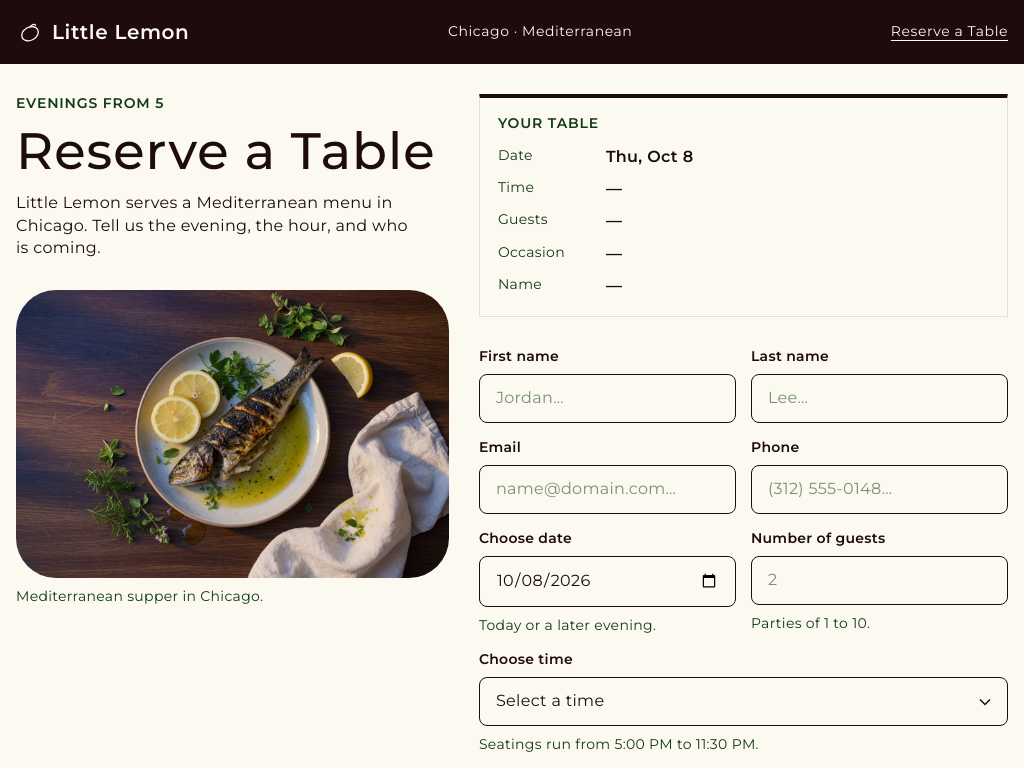
Scenario: BookingPage › should show the guest count on the slip when the guest field changes
The width and height of the screenshot is (1024, 768).
Type "6" into the number field labelled "Number of guests" at (879, 580), box x1=751 y1=556 x2=1008 y2=604
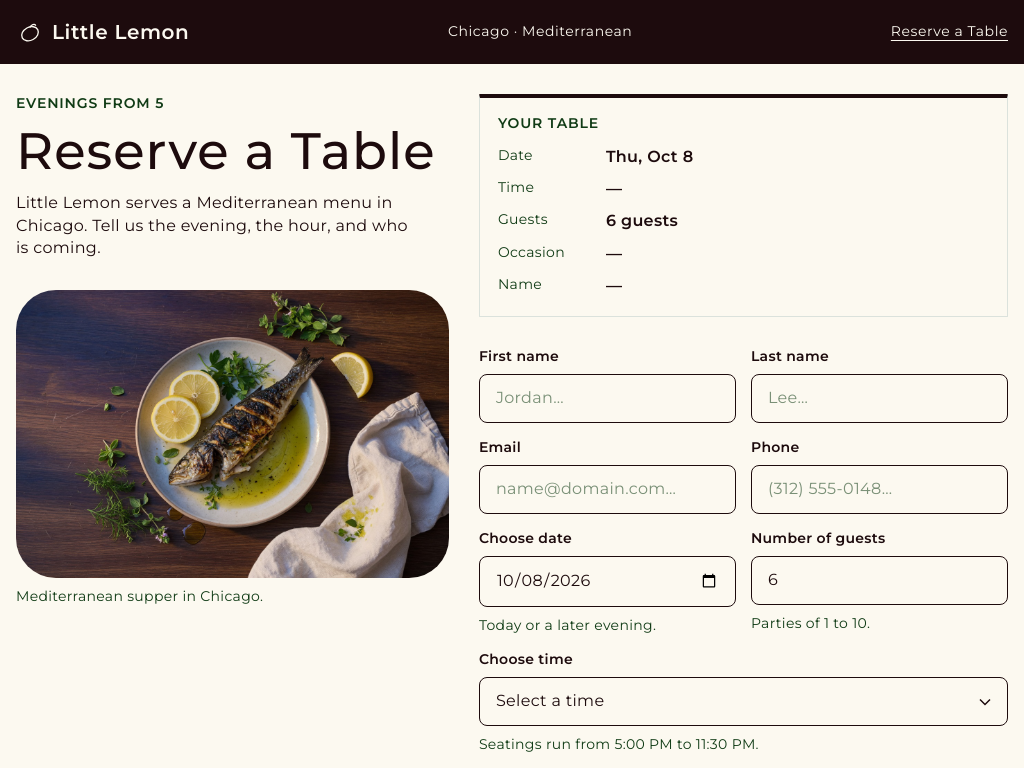
Now the element named "Reservation slip" shows "6 guests", box x1=606 y1=211 x2=678 y2=230
